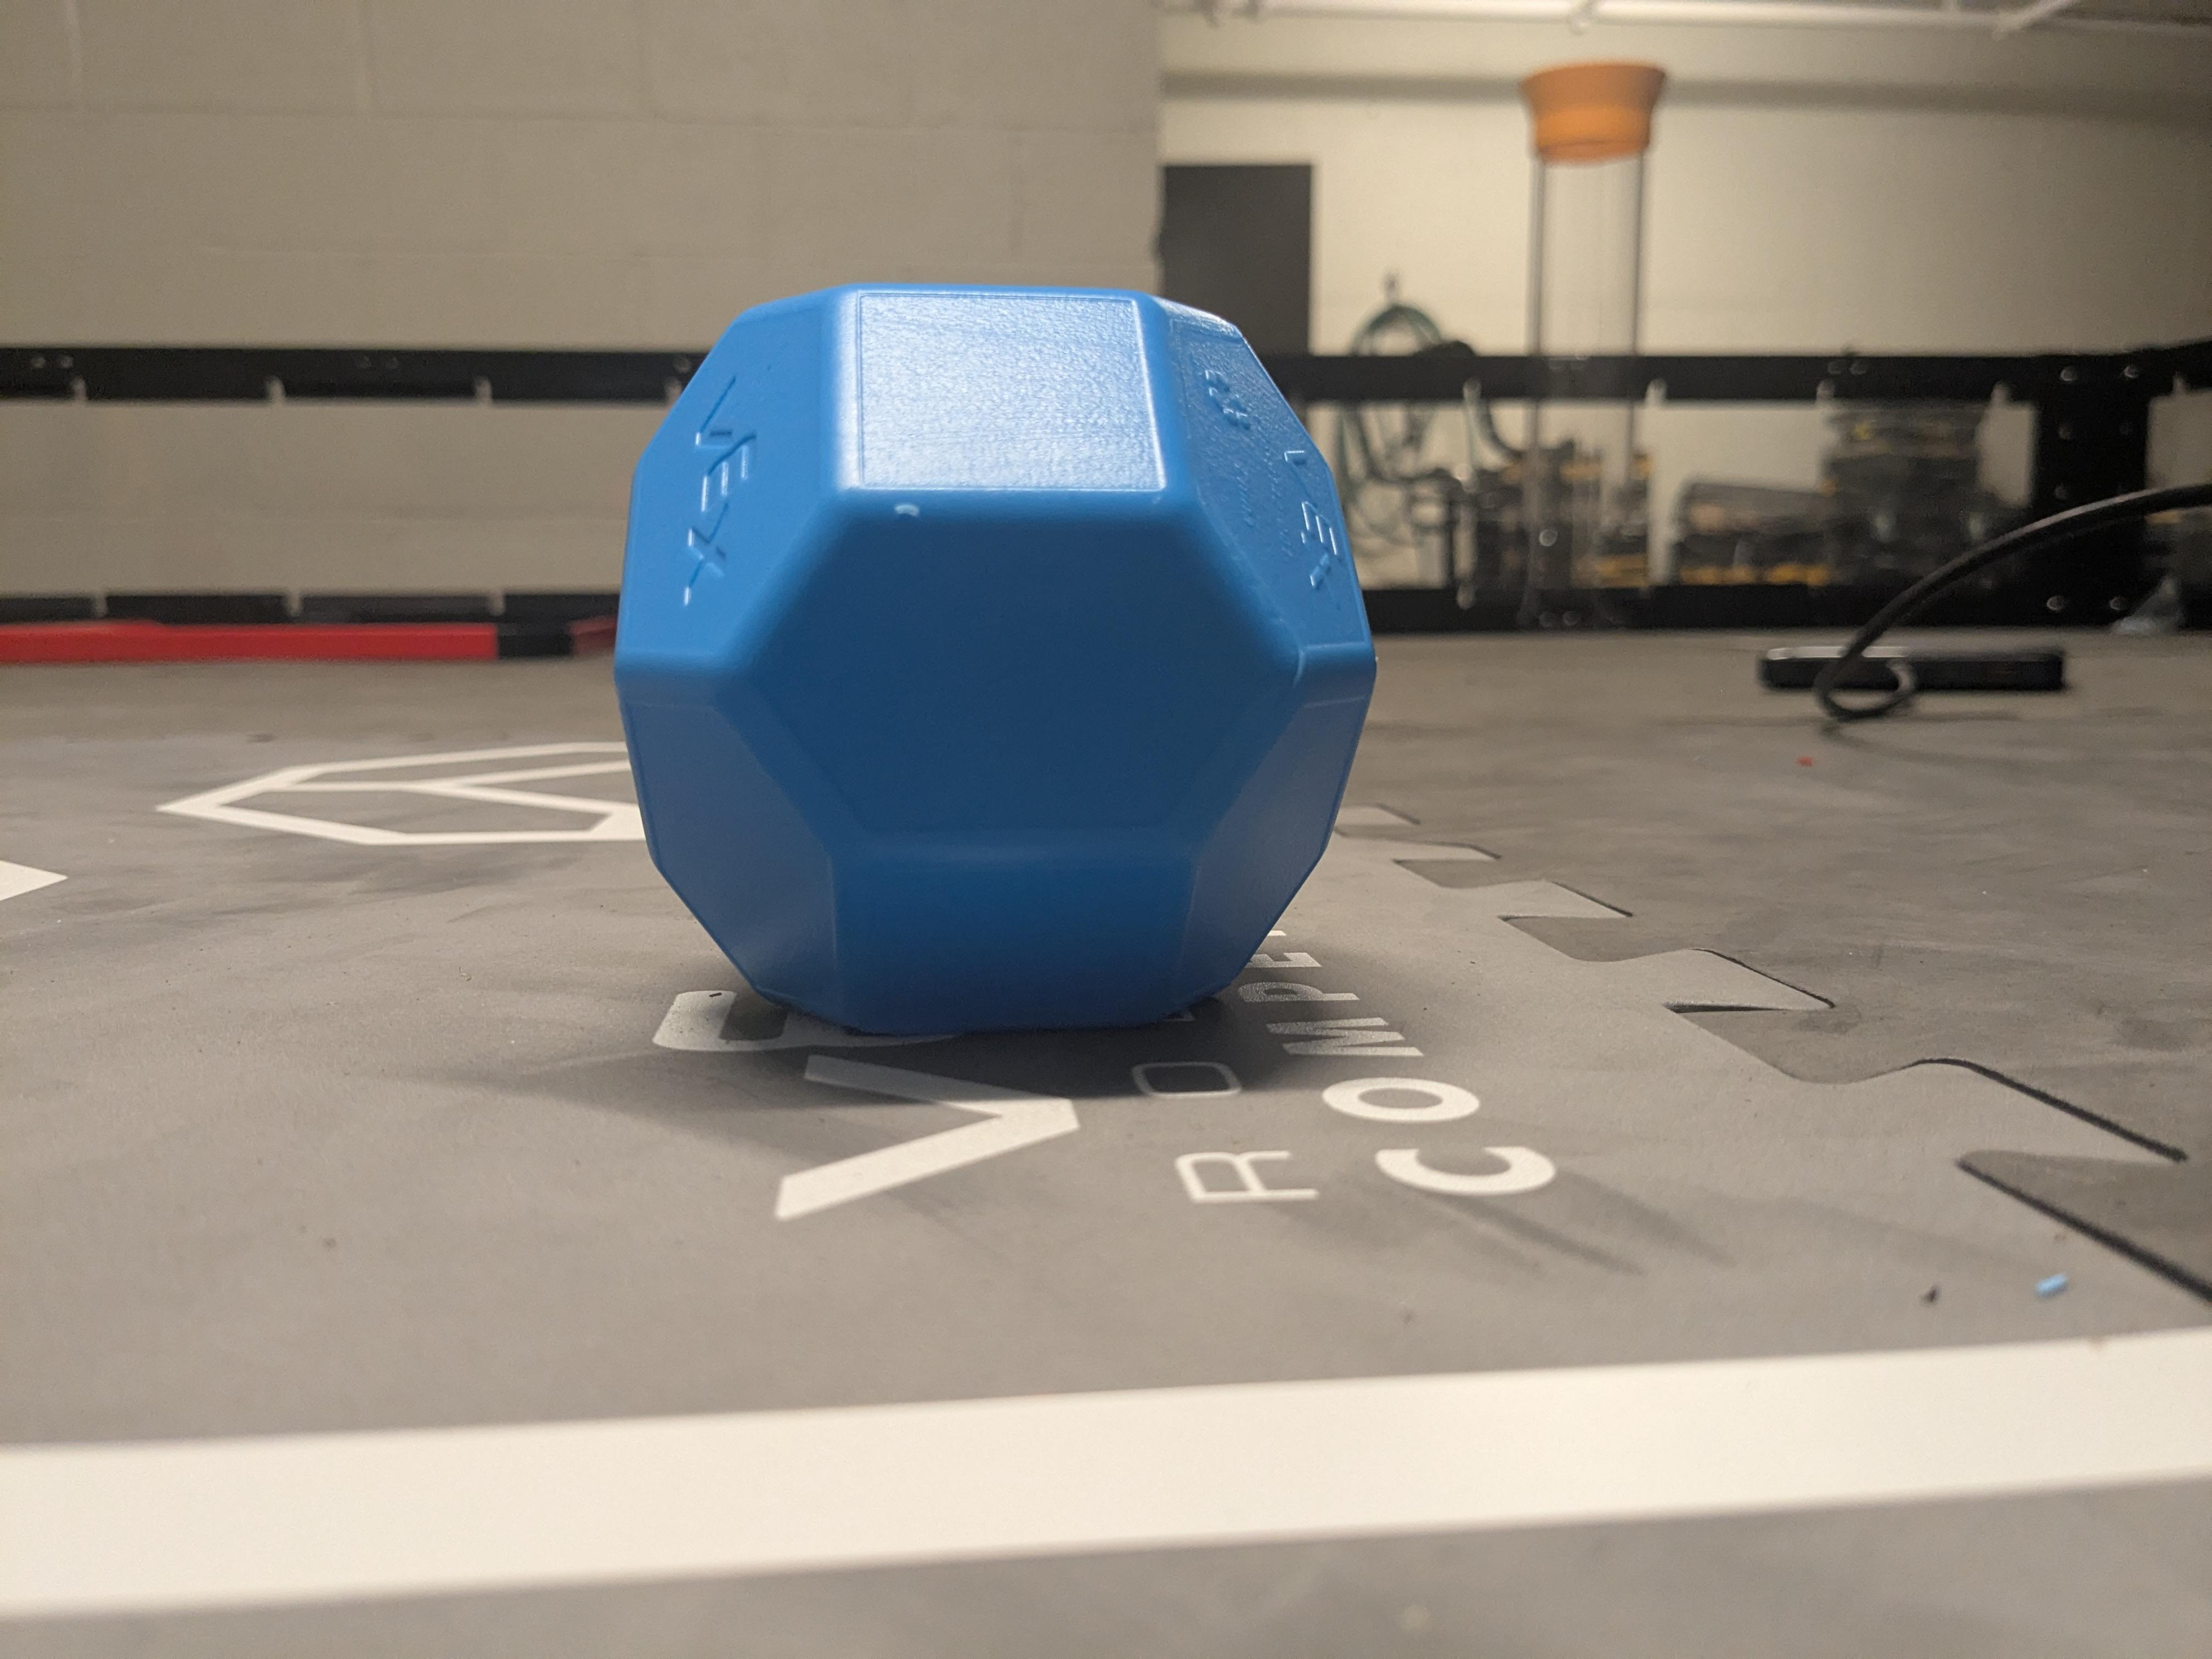Vex-Pieces-BLUE: (629, 288, 1378, 1049)
